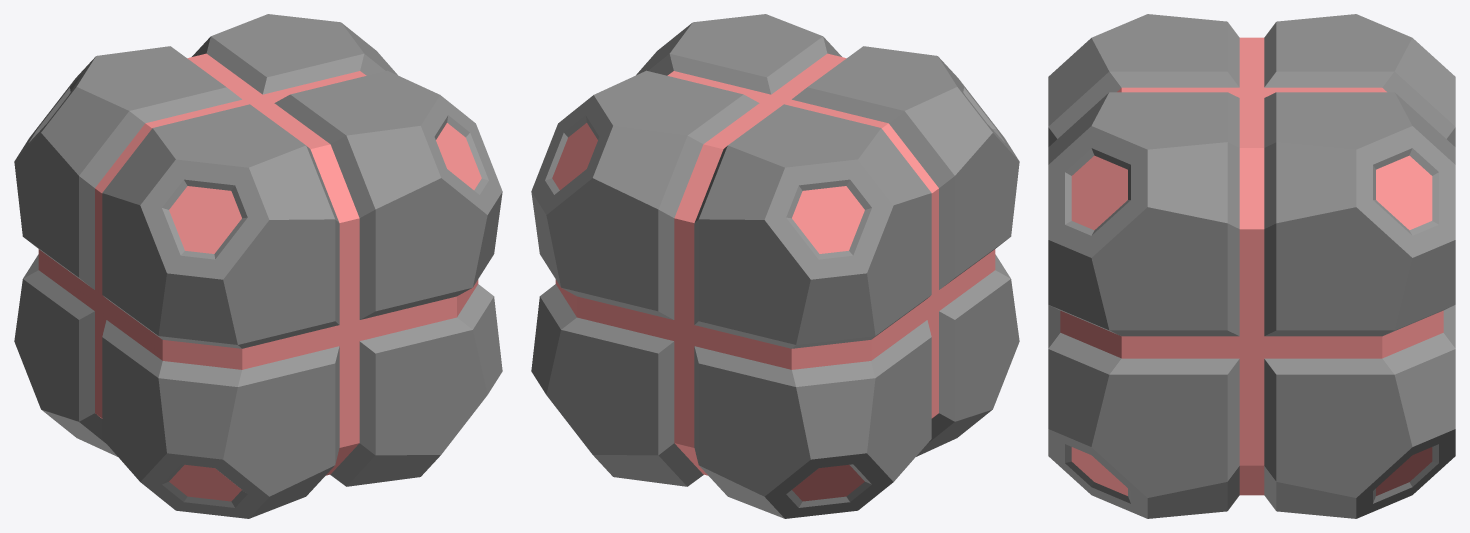
The model's file is Crate.FBX.
3 renders of one model, left to right at view 1: azimuth 30°, elevation 25°; view 2: azimuth 150°, elevation 25°; view 3: azimuth 270°, elevation 25°, orthographic. The views are drawn at different scales.
Visible parts, largest first — view 1: Crate04_low; view 2: Crate04_low; view 3: Crate04_low.
Boxes of the visible parts, x1,y1,x2,y2 form: Crate04_low: (14, 14, 502, 518); Crate04_low: (531, 14, 1019, 518); Crate04_low: (1048, 14, 1455, 518).
Bounding box in the file's own units: 100 × 100 × 100.
